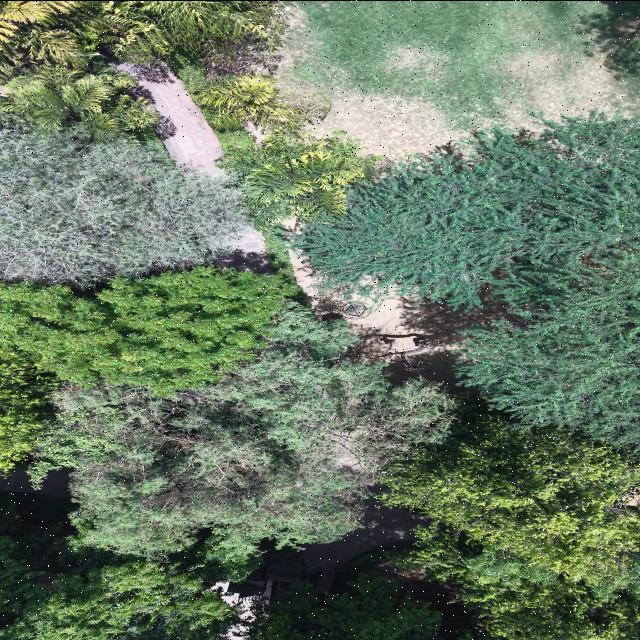DRY_AREA: (277, 1, 639, 158), (278, 1, 637, 155)
VEGETATION_TREE: (0, 1, 639, 639), (0, 119, 639, 639), (291, 118, 639, 639), (0, 1, 297, 469), (292, 118, 639, 445), (30, 309, 452, 554), (0, 1, 367, 227), (0, 3, 284, 285), (291, 118, 639, 305), (382, 414, 639, 639), (277, 1, 639, 147), (382, 416, 639, 585), (0, 120, 247, 286), (0, 1, 287, 138), (0, 268, 294, 395), (0, 495, 257, 639), (456, 252, 639, 446), (192, 74, 379, 229), (413, 530, 639, 639), (239, 547, 474, 639), (0, 1, 287, 75), (2, 559, 232, 639), (225, 132, 378, 228), (0, 49, 159, 141), (99, 1, 289, 75), (60, 1, 286, 61), (247, 575, 440, 639), (0, 65, 158, 142), (460, 578, 639, 639), (395, 525, 558, 588), (192, 74, 329, 131), (0, 353, 58, 474), (0, 26, 100, 82), (577, 1, 639, 78), (262, 225, 310, 307), (0, 1, 81, 42), (166, 54, 213, 99), (165, 53, 206, 96), (216, 129, 253, 154)
